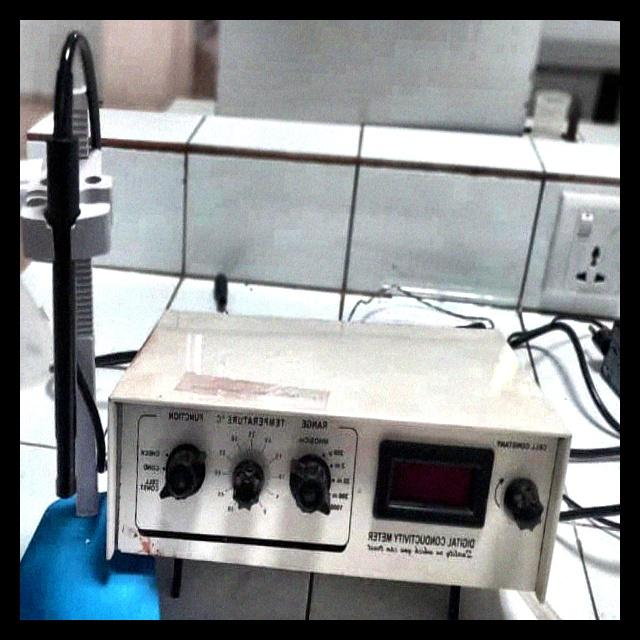Conductivity Meter: (20, 336, 580, 606)
